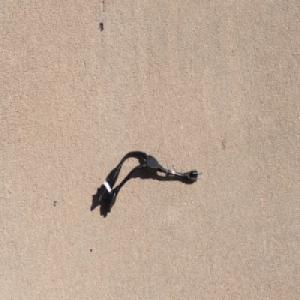Wire: (95, 149, 203, 214)
